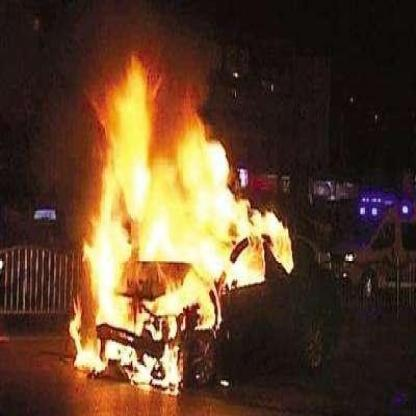fire: (64, 45, 298, 392)
